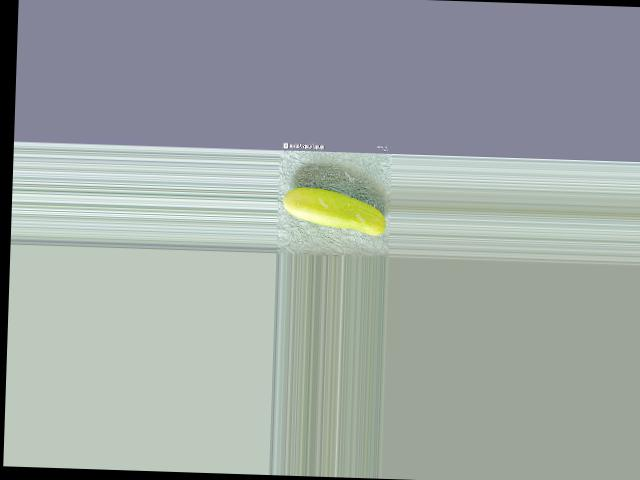cucumber: (282, 186, 387, 235)
